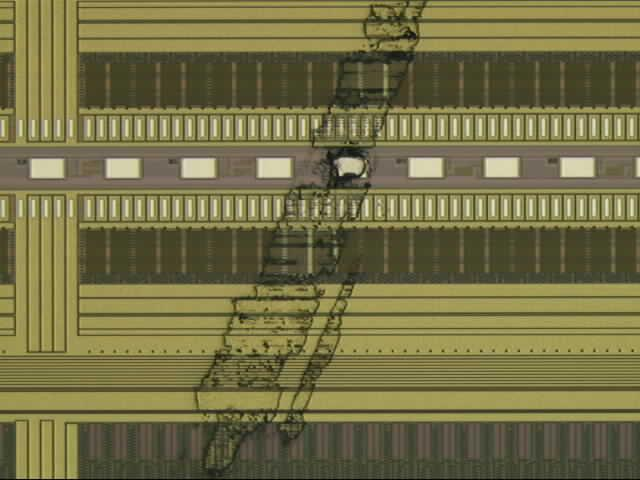SCRATCH: (192, 1, 433, 479)
